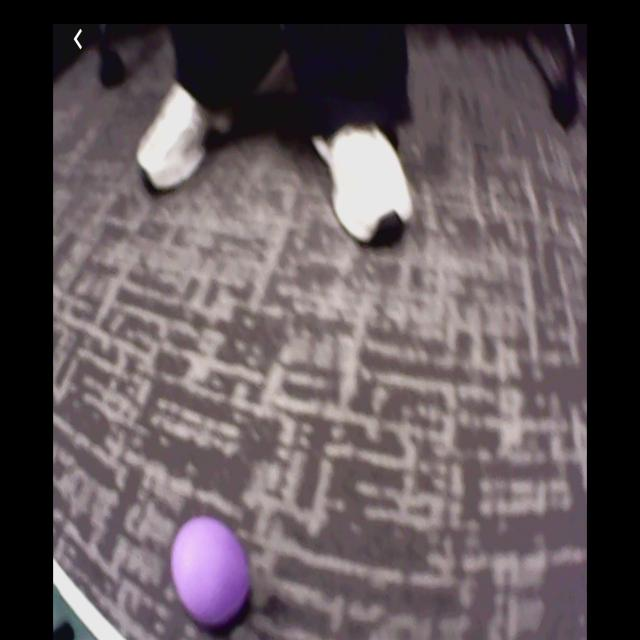ball: (173, 516, 249, 625)
